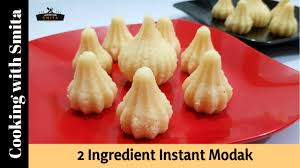modak: (113, 67, 179, 139), (124, 10, 181, 87), (184, 47, 242, 117), (64, 54, 123, 117), (190, 23, 229, 75), (71, 28, 116, 73), (97, 12, 137, 59), (222, 1, 259, 37), (153, 16, 188, 54), (265, 3, 300, 36)
